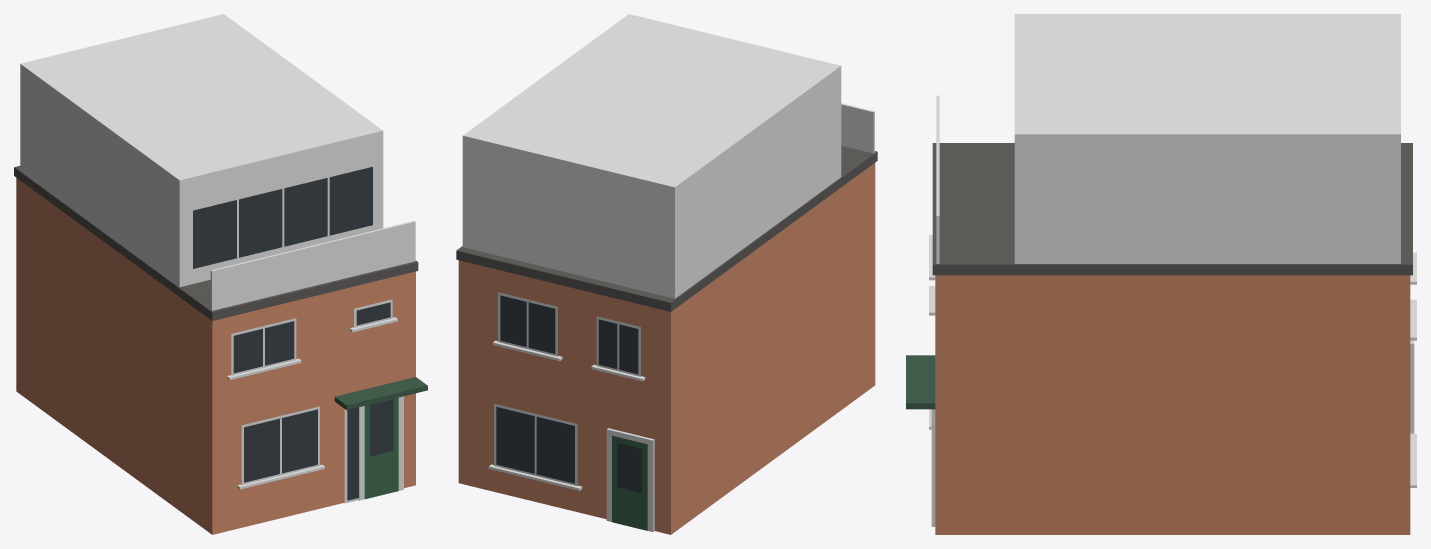
The model's file is nw-aw-lameye__orange__2__flat__long__solid__mirror.glb.
3 renders of one model, left to right at view 1: azimuth 30°, elevation 25°; view 2: azimuth 150°, elevation 25°; view 3: azimuth 270°, elevation 25°, orthographic. The views are drawn at different scales.
Visible parts, largest first — view 1: nw-aw-lameye__orange__2__flat__long__solid__mirror; view 2: nw-aw-lameye__orange__2__flat__long__solid__mirror; view 3: nw-aw-lameye__orange__2__flat__long__solid__mirror.
Boxes of the visible parts, x1,y1,x2,y2 form: nw-aw-lameye__orange__2__flat__long__solid__mirror: (14,14,427,534); nw-aw-lameye__orange__2__flat__long__solid__mirror: (456,14,877,534); nw-aw-lameye__orange__2__flat__long__solid__mirror: (906,14,1416,534).
Size of the model in its own units: 5.44 by 8.35 by 9.65.
